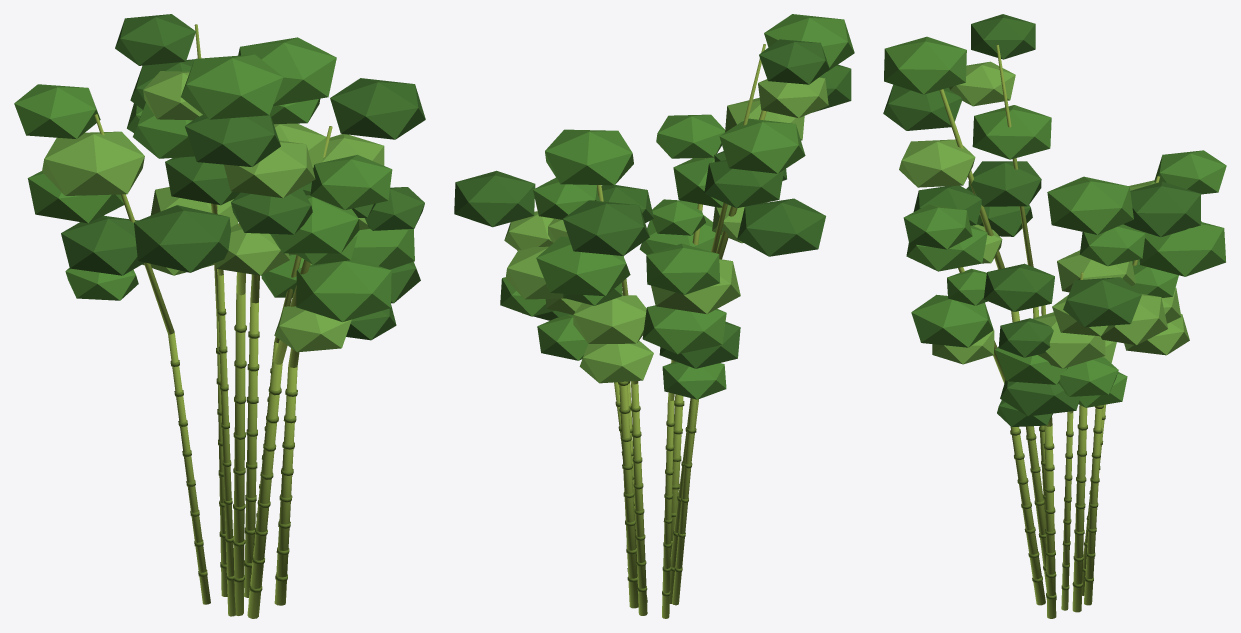
The model's file is bamboo_b.glb.
3 renders of one model, left to right at view 1: azimuth 30°, elevation 25°; view 2: azimuth 150°, elevation 25°; view 3: azimuth 270°, elevation 25°, orthographic. The views are drawn at different scales.
Parts seen in each view (by area): view 1: Main; view 2: Main; view 3: Main.
Boxes of the visible parts, <box> form: Main: <box>14,14,425,618</box>; Main: <box>454,14,854,618</box>; Main: <box>883,14,1226,618</box>.
Bounding box in the file's own units: 4.06 × 6.98 × 4.05.
